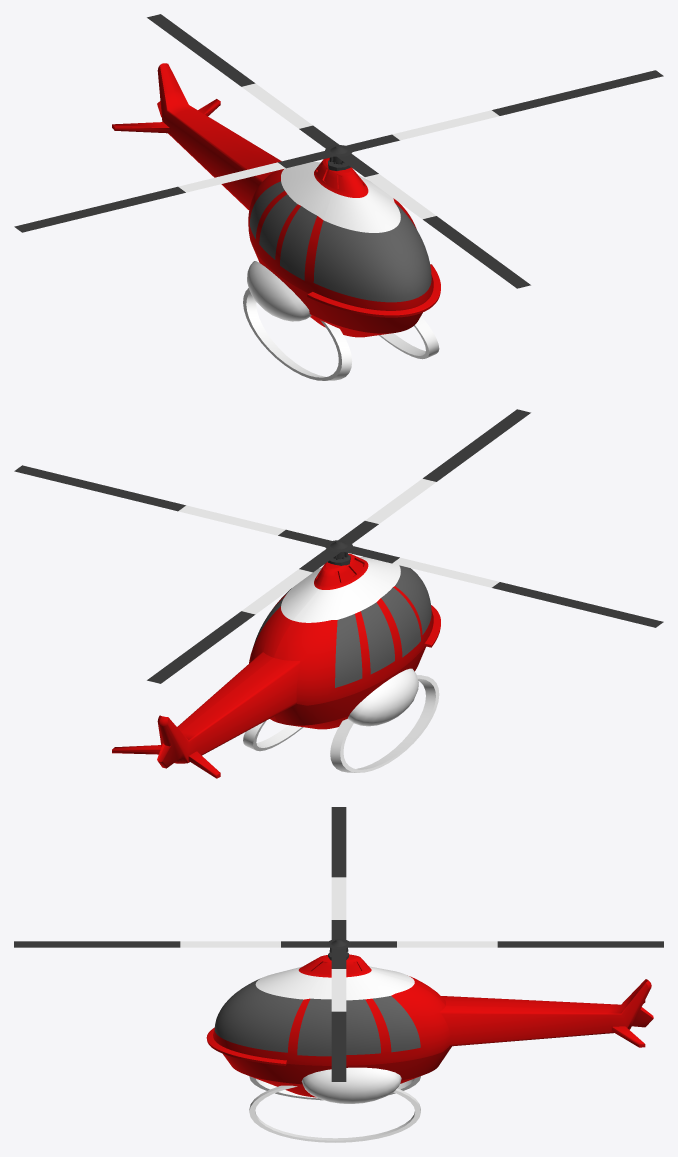
File: helichoter.fbx
3 renders of one model, top to bottom at view 1: azimuth 30°, elevation 25°; view 2: azimuth 150°, elevation 25°; view 3: azimuth 270°, elevation 25°, orthographic. The views are drawn at different scales.
Visible parts, largest first — view 1: Helicopter, polySurface6976; view 2: Helicopter, polySurface6976; view 3: Helicopter, polySurface6976.
Boxes of the visible parts, left/top/right/bottom form: Helicopter: left=112, top=63, right=440, bottom=380; polySurface6976: left=14, top=14, right=663, bottom=288; Helicopter: left=112, top=553, right=440, bottom=778; polySurface6976: left=14, top=409, right=663, bottom=683; Helicopter: left=206, top=952, right=653, bottom=1142; polySurface6976: left=14, top=807, right=663, bottom=1081.
Bounding box in the file's own units: 22.28 × 6.82 × 22.28.
